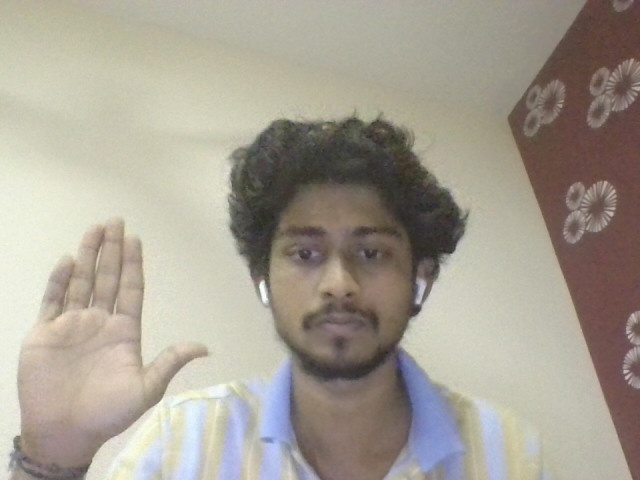hello: (14, 211, 218, 443)
